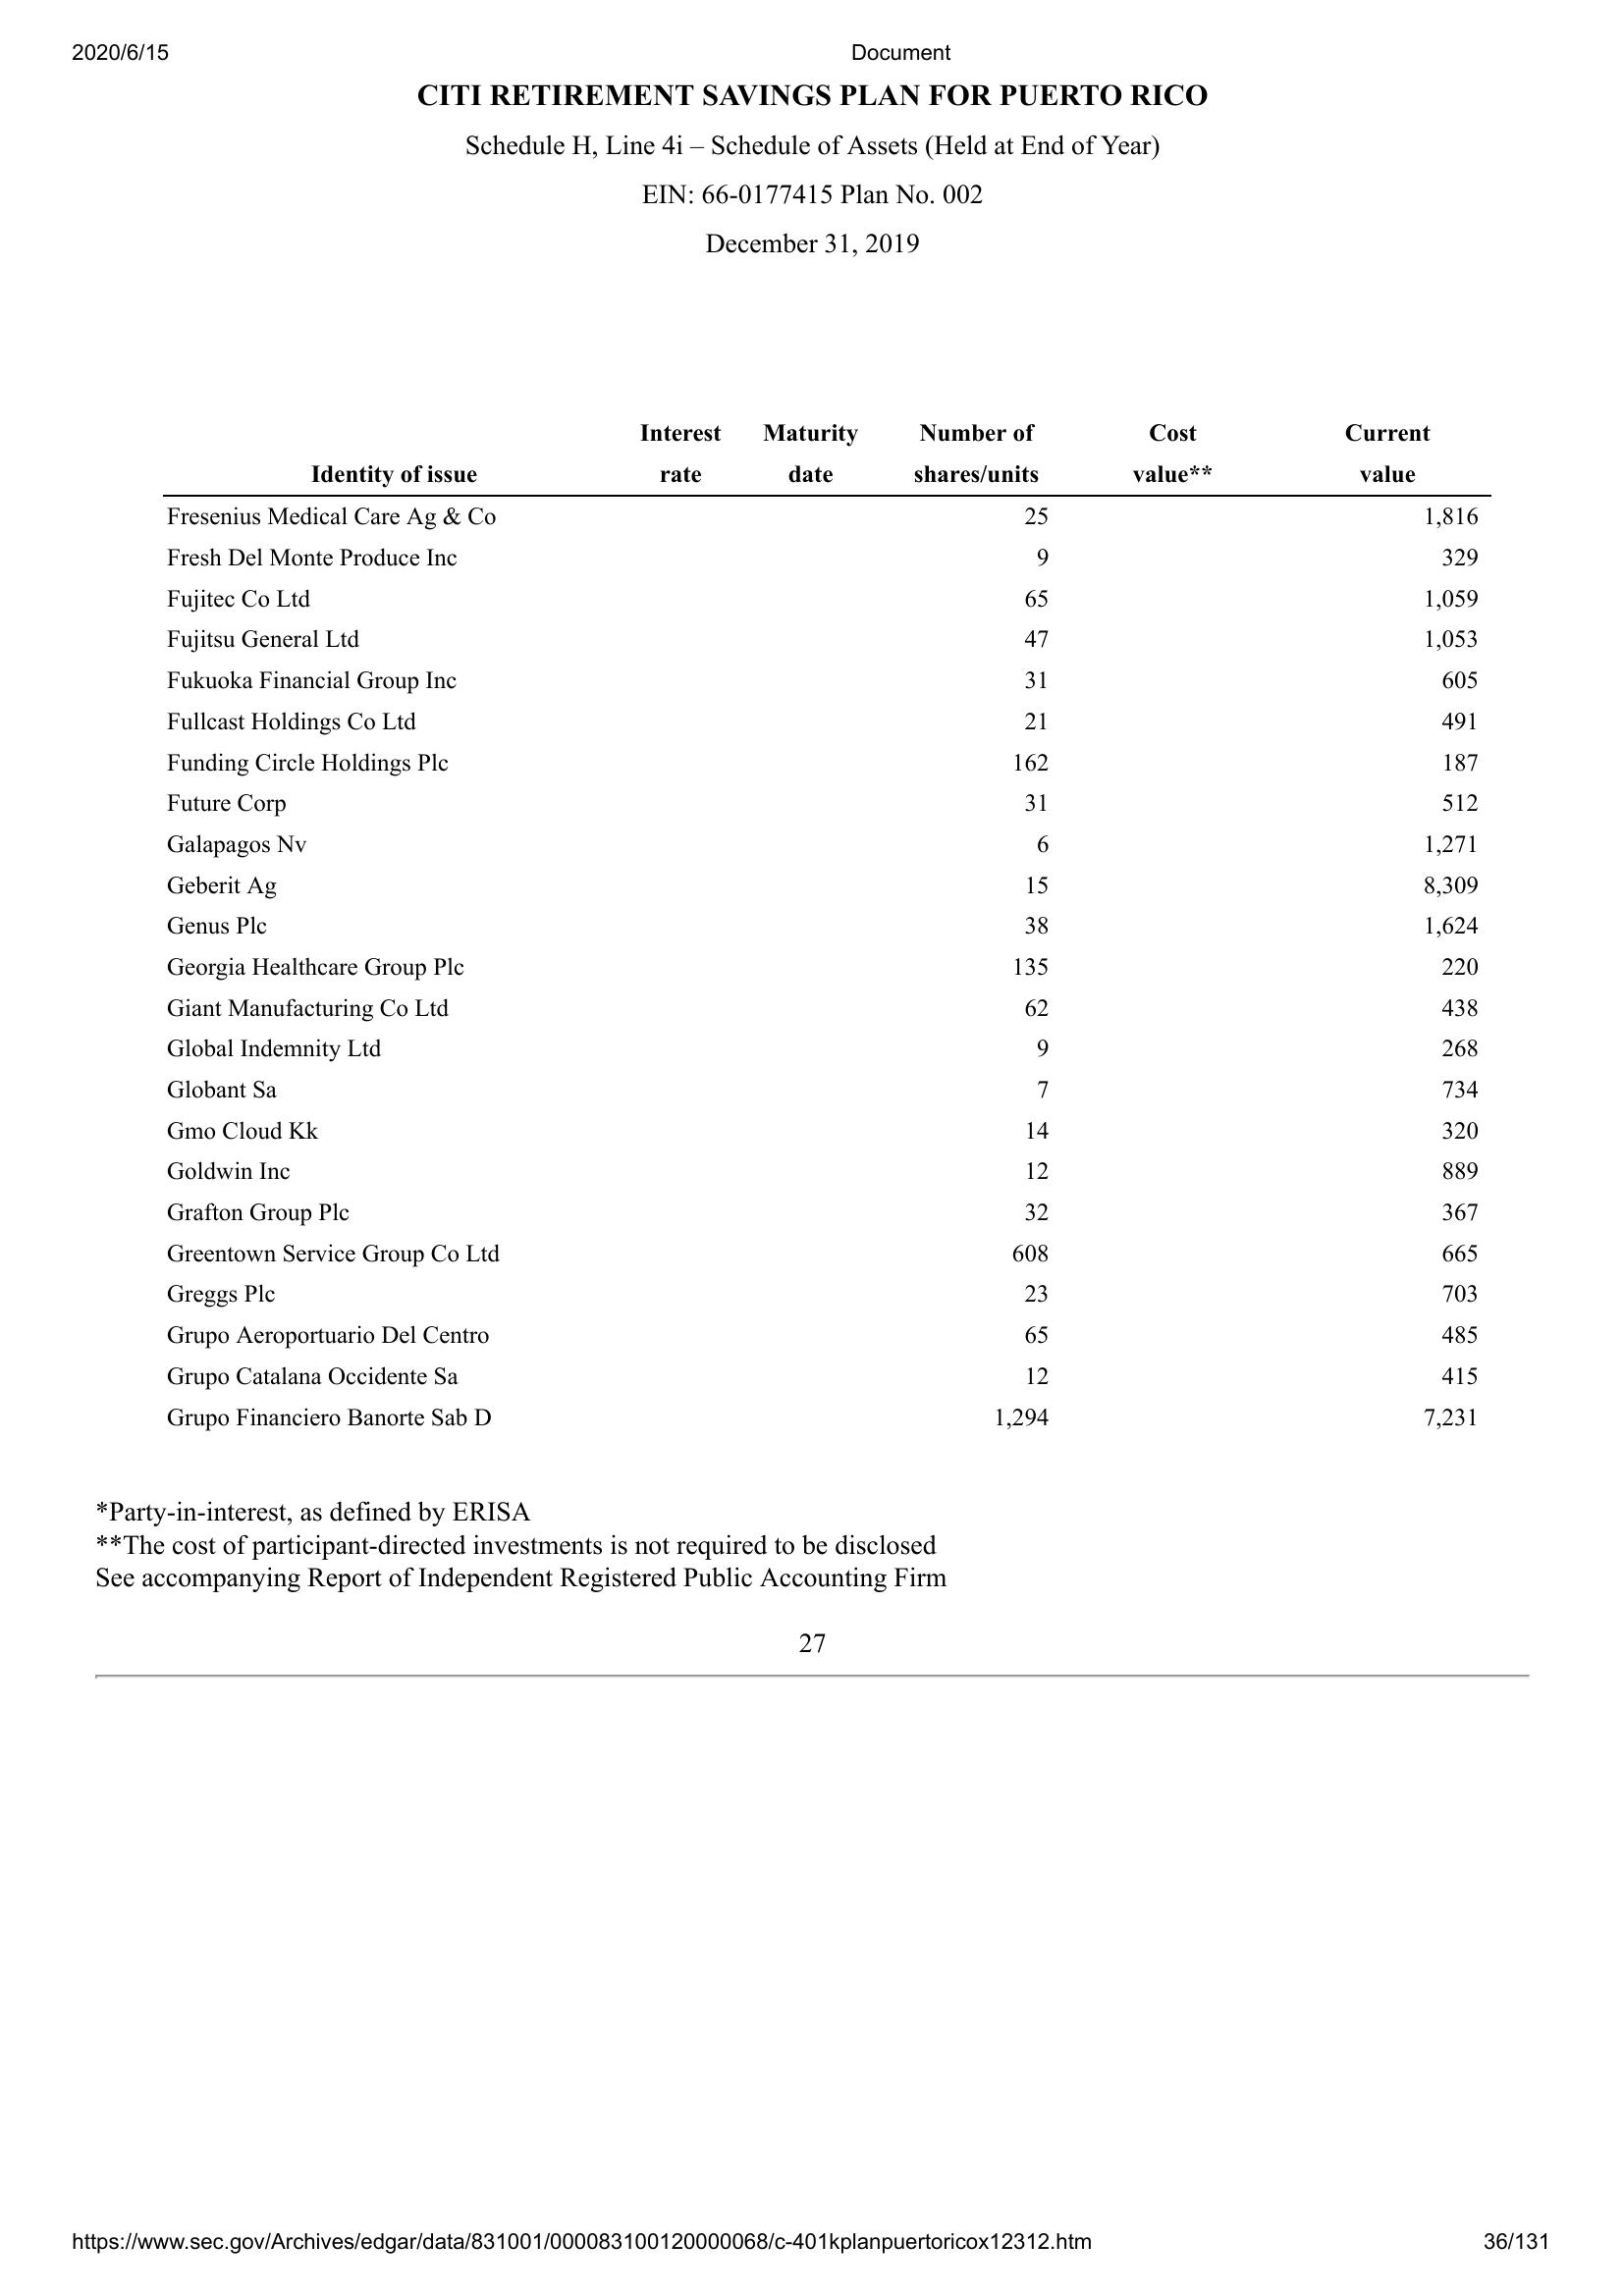table: (158, 411, 1490, 1438)
